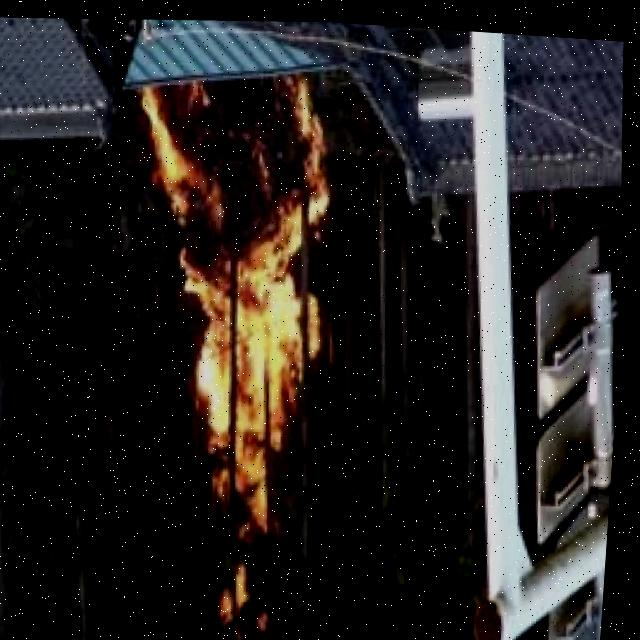Fire: (113, 61, 363, 532)
